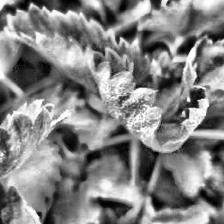Powdery Mildew Leaf: (89, 48, 209, 154), (0, 98, 71, 224), (0, 181, 55, 224)
